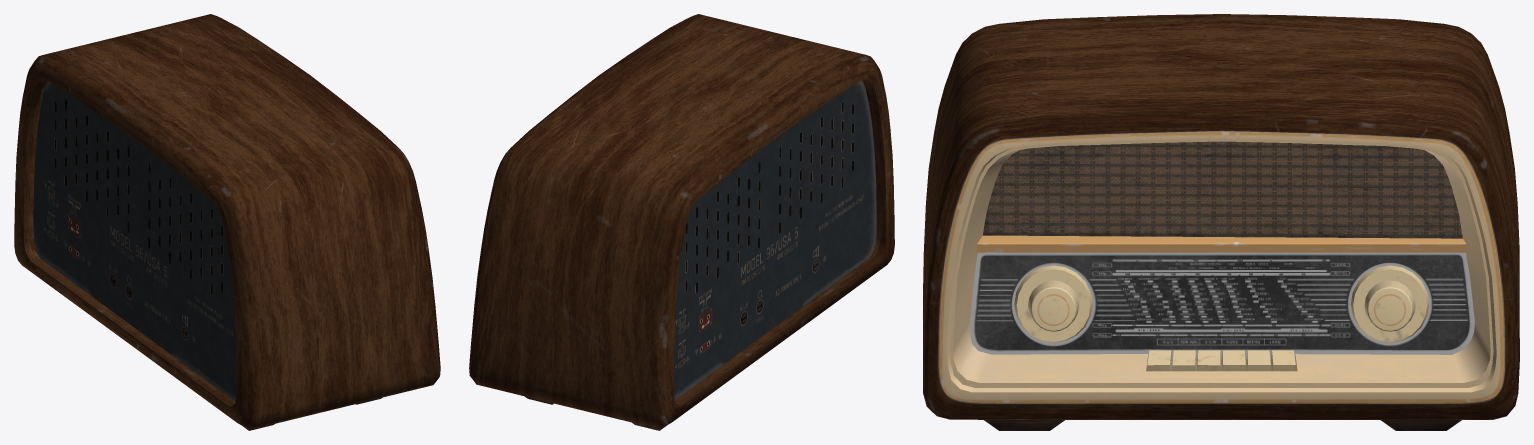
3 views of the same model, side by side, from view 1: azimuth 30°, elevation 25°; view 2: azimuth 150°, elevation 25°; view 3: azimuth 270°, elevation 25° (orthographic). The views are drawn at different scales.
Parts seen in each view (by area): view 1: OldRadio; view 2: OldRadio; view 3: OldRadio.
Boxes of the visible parts, x1,y1,x2,y2 form: OldRadio: [14, 14, 440, 430]; OldRadio: [469, 14, 894, 430]; OldRadio: [923, 14, 1519, 430].
Size of the model in its own units: 0.2261 by 0.2855 by 0.4782.
1 material, 1 textured.
